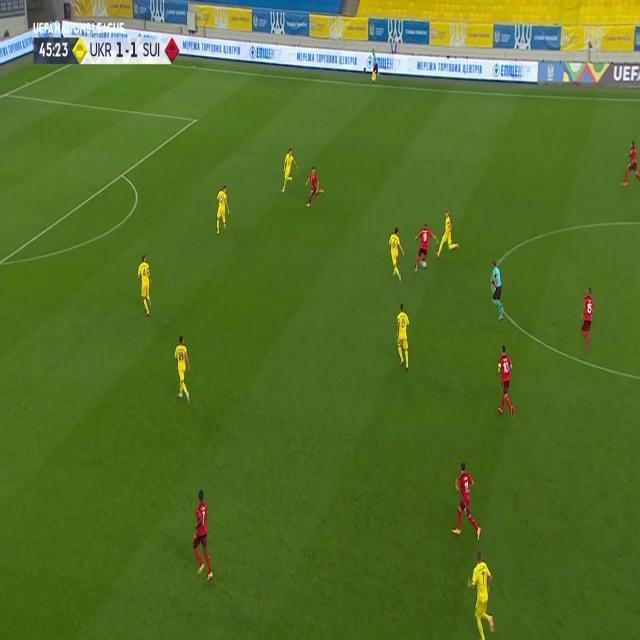ball: (423, 260, 427, 268)
player: (466, 547, 497, 640), (451, 461, 482, 540), (191, 488, 214, 582), (495, 343, 515, 419), (173, 335, 191, 403), (436, 209, 460, 260), (135, 253, 153, 318), (579, 284, 595, 354), (396, 302, 411, 372), (489, 258, 505, 323), (413, 221, 433, 271), (387, 227, 405, 282), (305, 164, 326, 209), (279, 147, 299, 193), (621, 140, 640, 188), (214, 183, 231, 236), (369, 47, 382, 84)
